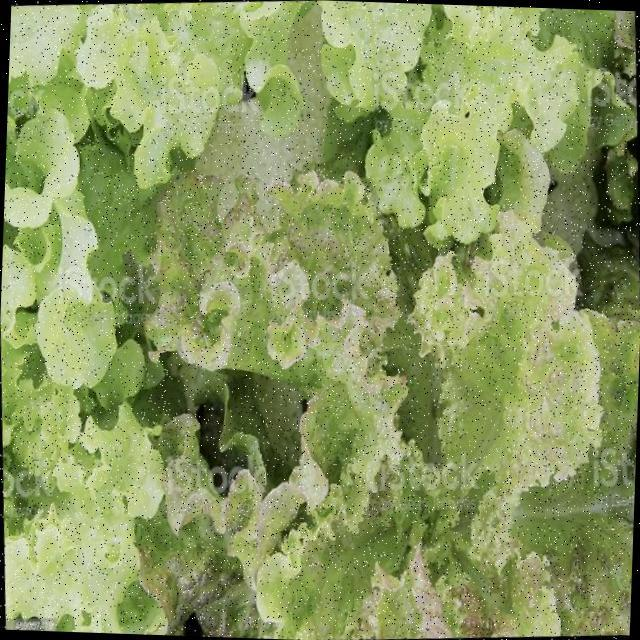Healthy: (149, 167, 384, 381), (422, 249, 604, 487)
